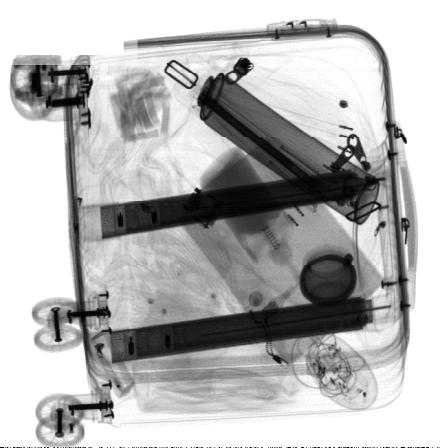Sprayer: (169, 54, 379, 224)
